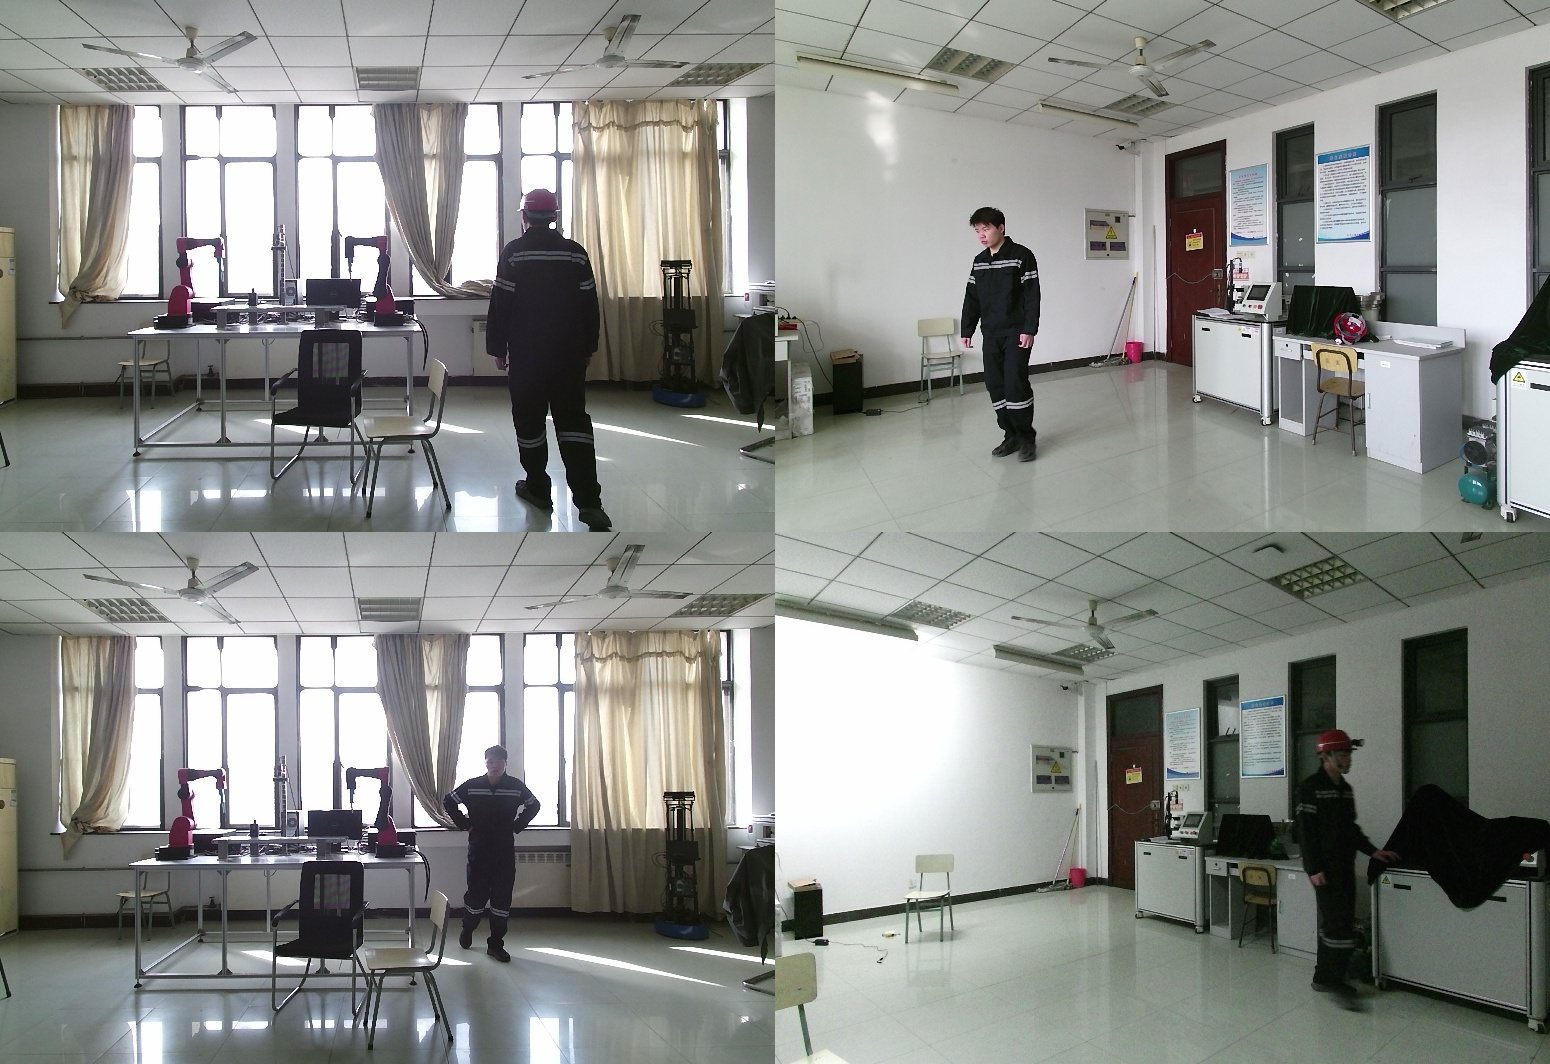person: (489, 188, 618, 532), (1288, 728, 1400, 997), (962, 207, 1064, 458), (446, 750, 540, 967)
